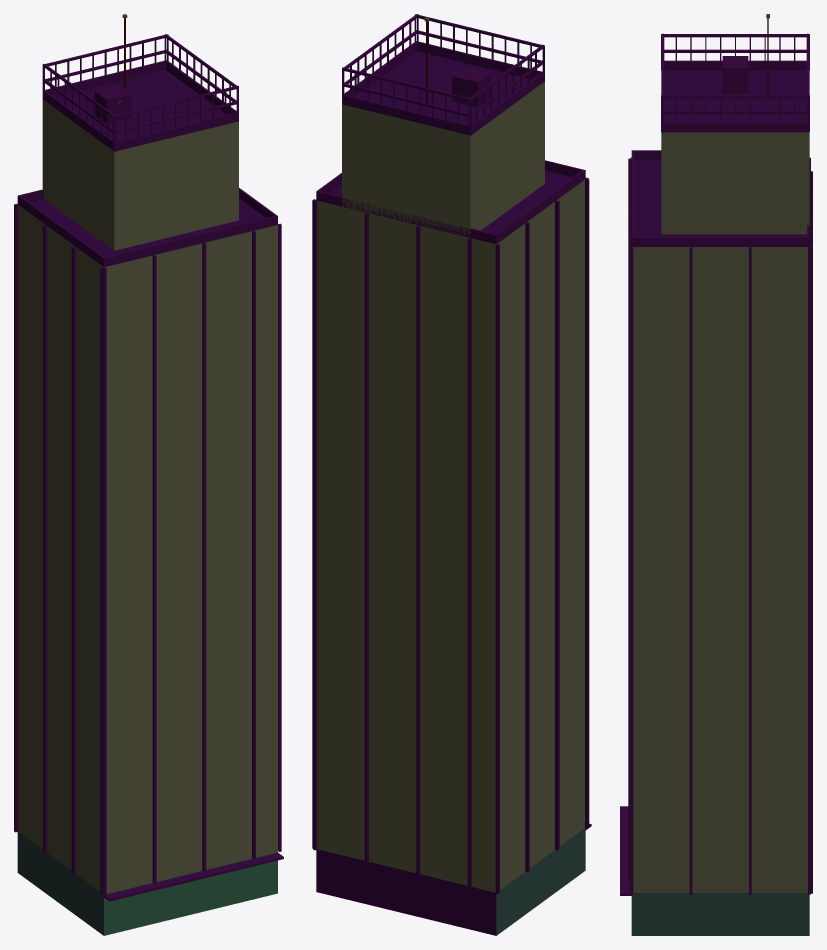
File: commercial_d.glb
3 views of the same model, side by side, from view 1: azimuth 30°, elevation 25°; view 2: azimuth 150°, elevation 25°; view 3: azimuth 270°, elevation 25° (orthographic). The views are drawn at different scales.
Parts seen in each view (by area): view 1: commercial_d; view 2: commercial_d; view 3: commercial_d.
Part boxes in pixels (x1,y1,x2,y2): commercial_d: [14, 14, 283, 935]; commercial_d: [312, 14, 591, 935]; commercial_d: [620, 14, 812, 935].
Size of the model in its own units: 21.7 by 98.04 by 19.54.
